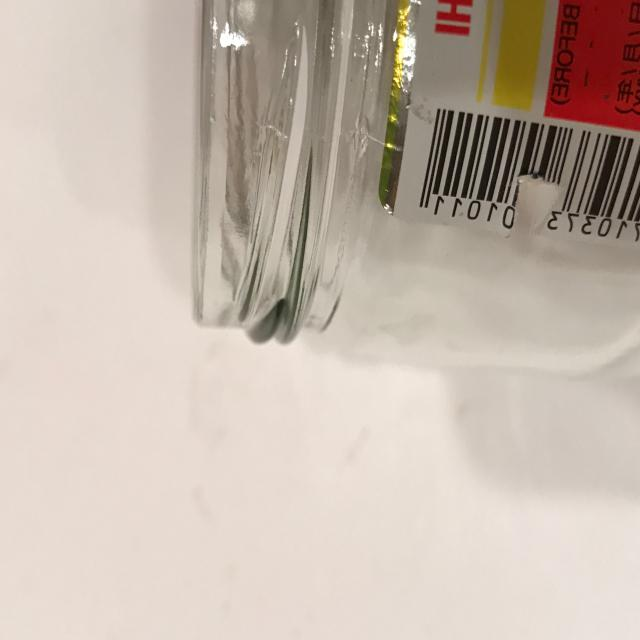glass: (191, 0, 640, 372)
